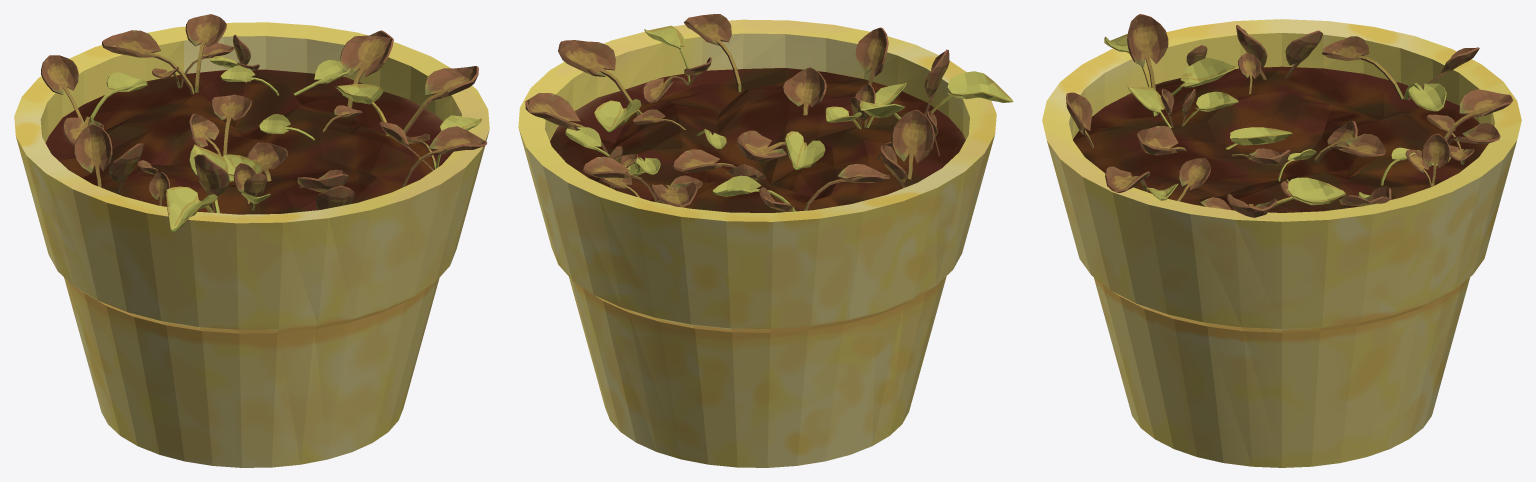
Rendered from Viola_Dead_End.glb.
3 views of the same model, side by side, from view 1: azimuth 30°, elevation 25°; view 2: azimuth 150°, elevation 25°; view 3: azimuth 270°, elevation 25° (orthographic).
Visible parts, largest first — view 1: Pot.002, Plane.189; view 2: Pot.002, Plane.189; view 3: Pot.002, Plane.189.
Part boxes in pixels (x1,y1,x2,y2): Pot.002: [14, 22, 489, 467]; Plane.189: [41, 14, 486, 231]; Pot.002: [518, 19, 996, 467]; Plane.189: [525, 14, 1013, 212]; Pot.002: [1042, 19, 1521, 467]; Plane.189: [1066, 14, 1513, 217].
Bounding box in the file's own units: 2.07 × 1.56 × 2.05.
Materials: 3 (3 with a texture image).
